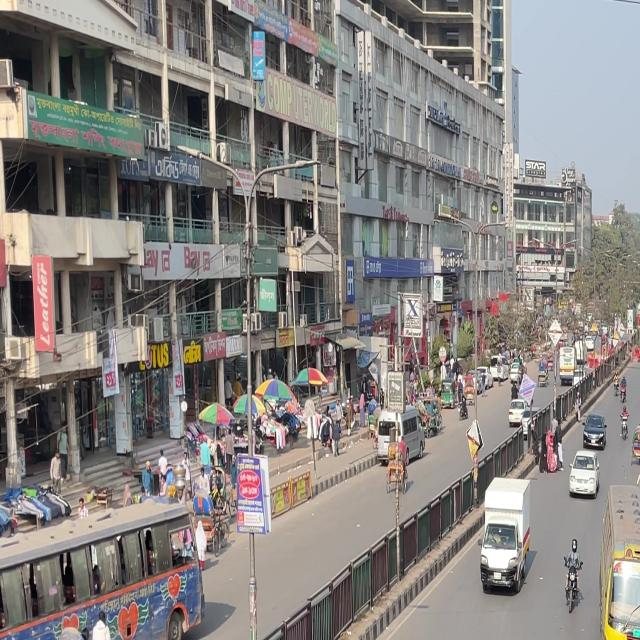bus: (2, 484, 209, 640), (602, 546, 640, 640)
car: (568, 453, 603, 498), (585, 414, 608, 444)
